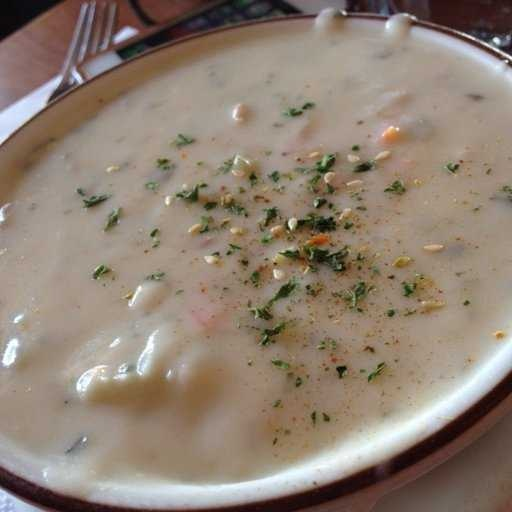soup: (1, 12, 509, 476)
